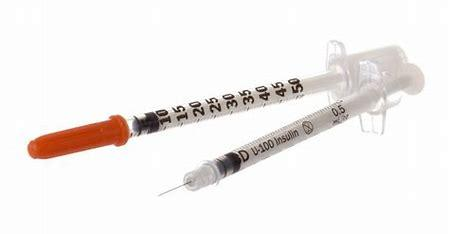Syringe: (25, 28, 426, 194)
